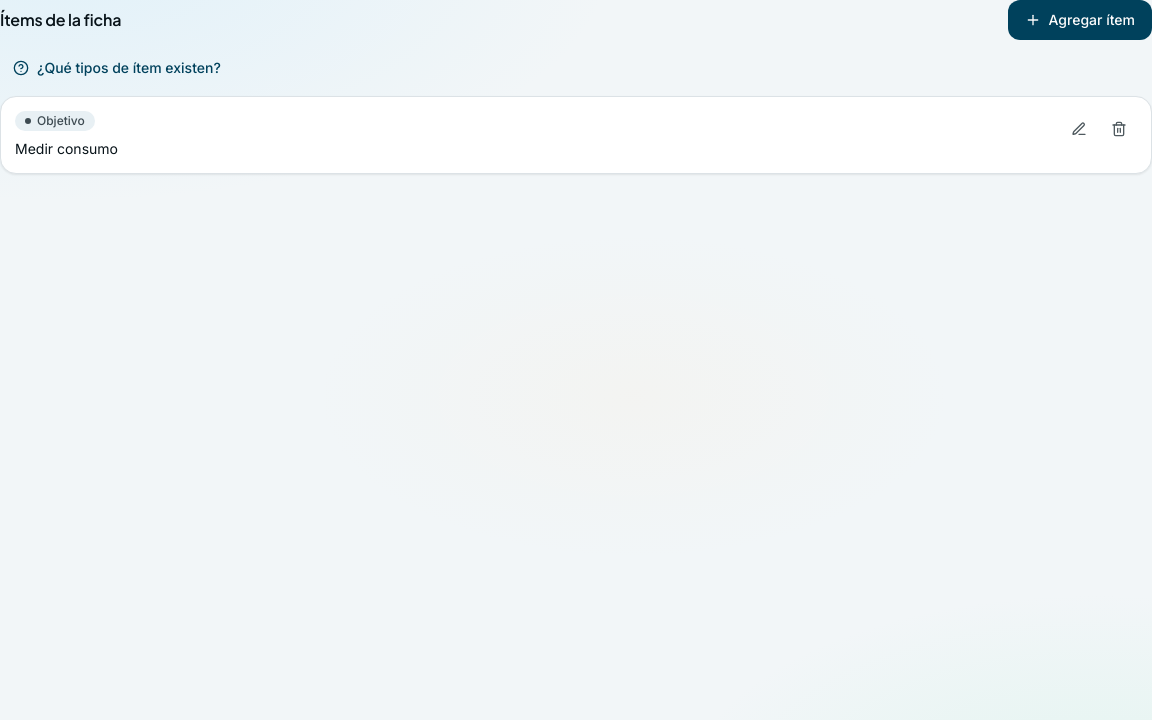
Test: ItemsMiFichaPanel › «Agregar ítem» abre el panel con la lista detrás y al cerrarlo desaparece
The image size is (1152, 720).
Click the button "Agregar ítem" at [1080, 20], box [1008,0,1151,40]
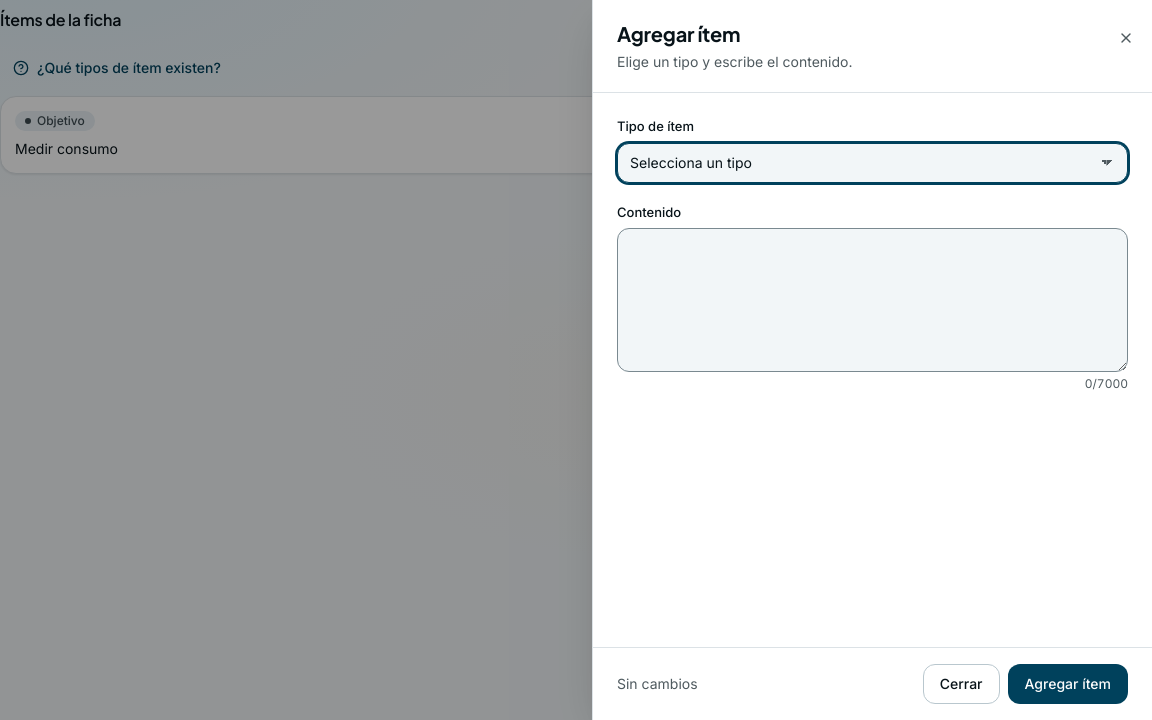
Expected: the text "Medir consumo" is shown, [15,140,118,157]
Expected: the dialog "Agregar ítem" is shown, [592,0,1151,719]
Click the button named "Cerrar panel" at [1126, 38], box [1108,20,1144,56]
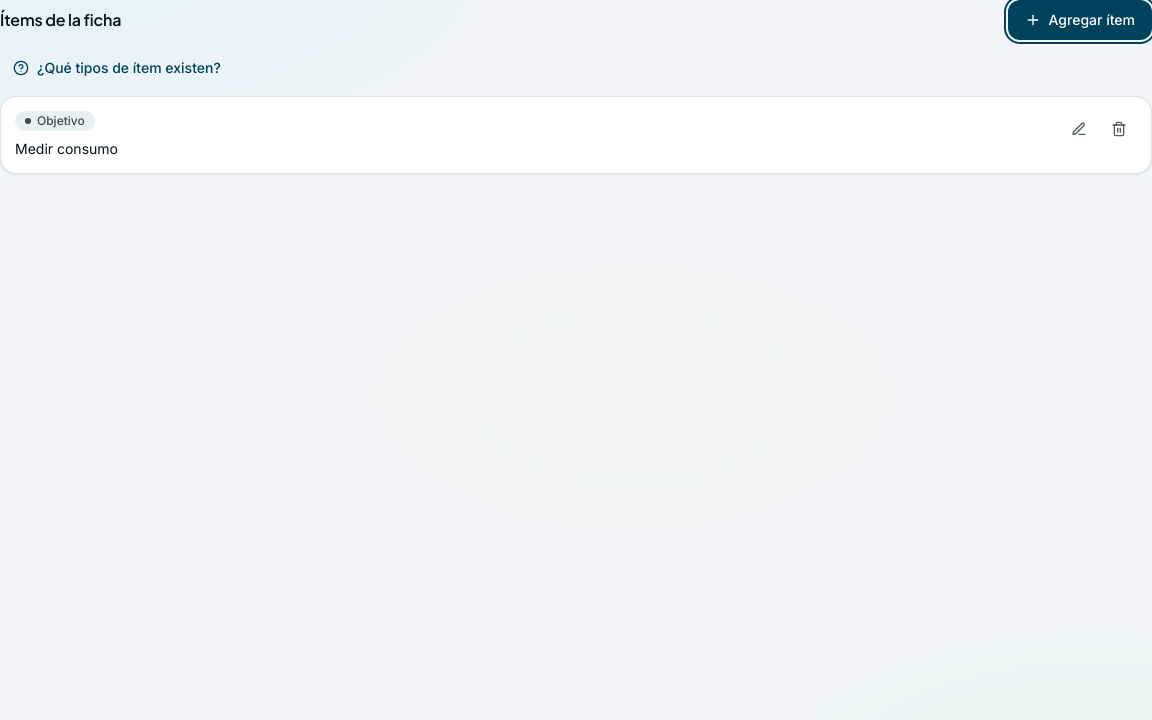
Expected: the dialog is gone
